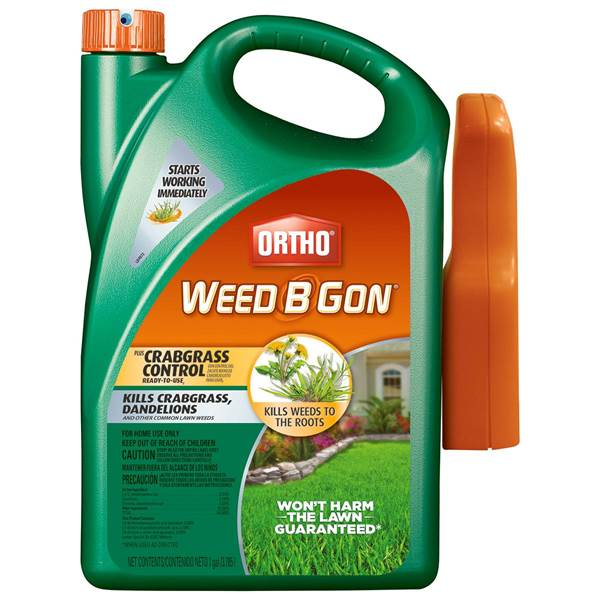crabgrass: (288, 364, 343, 399)
